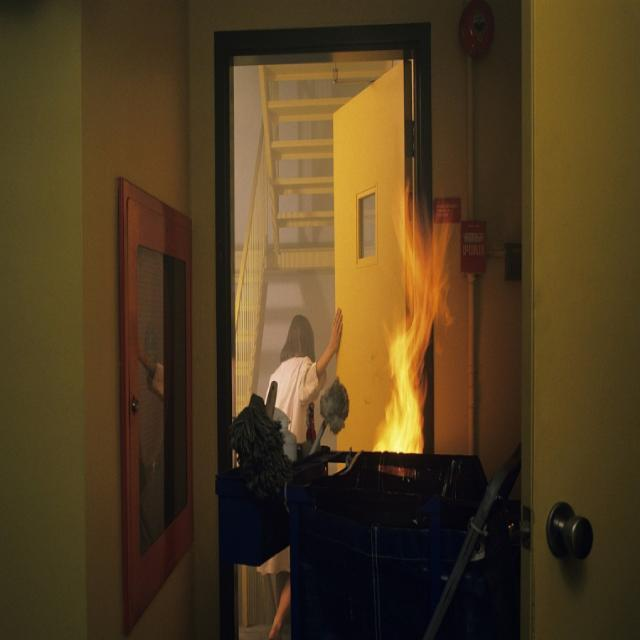Fire: (374, 188, 444, 454)
